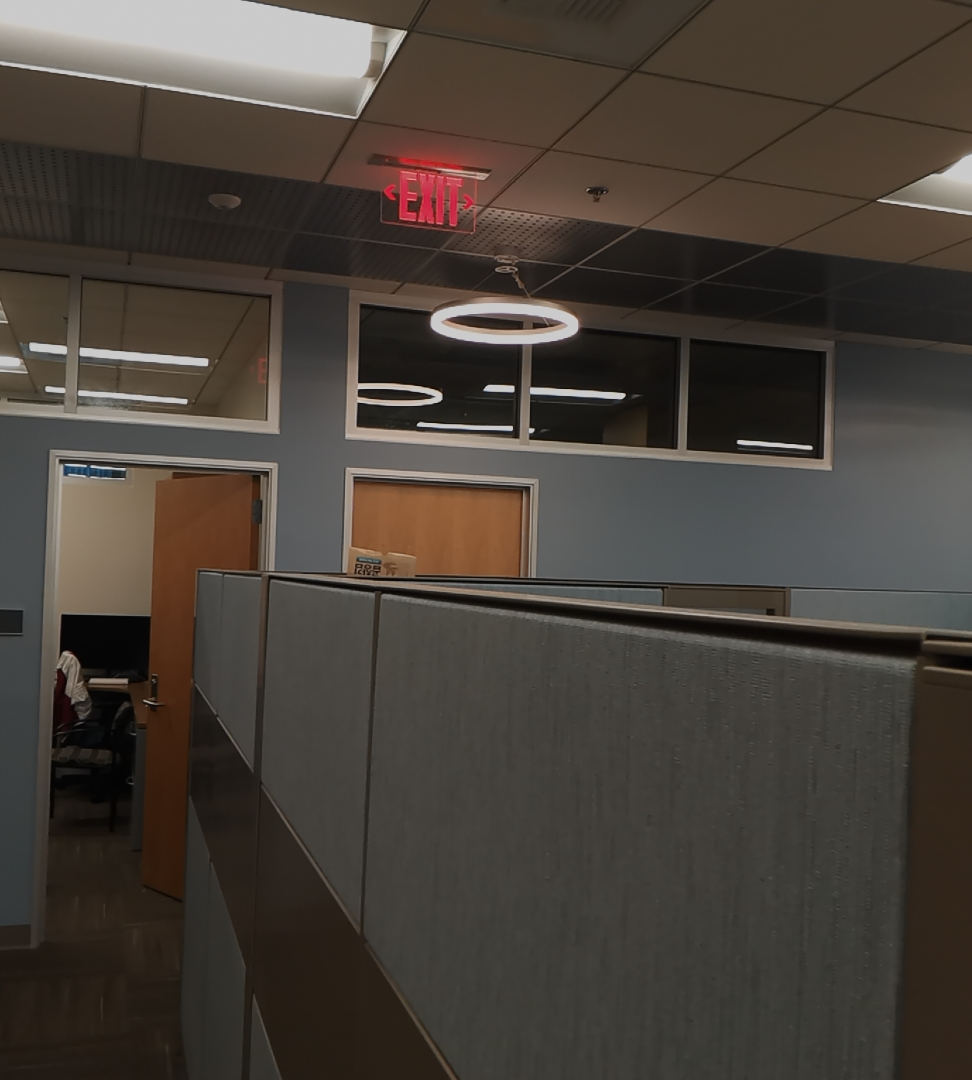emergency_exit: (372, 154, 492, 235)
